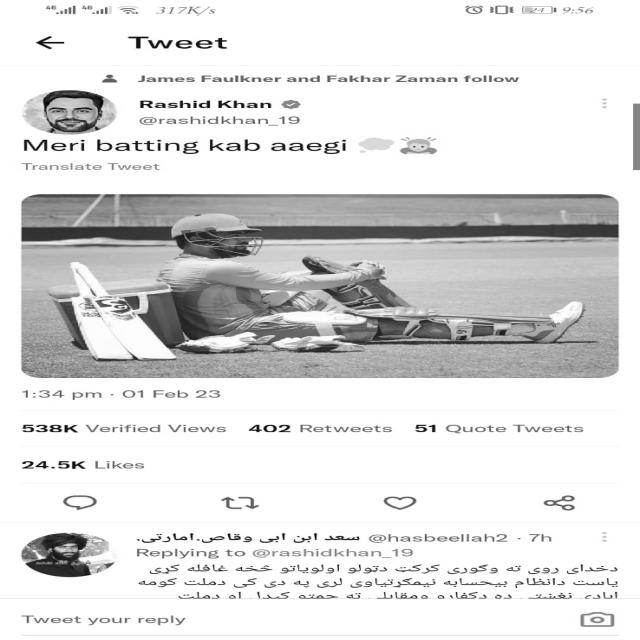CheckedTextView: (279, 98, 320, 113)
EditText: (14, 609, 575, 630)
ImageButton: (17, 35, 78, 49)
ImageView: (22, 188, 624, 378), (22, 92, 132, 134), (361, 487, 478, 516), (55, 493, 154, 510), (533, 488, 577, 516), (224, 492, 268, 516), (587, 609, 617, 628)
TextView: (136, 532, 618, 598), (27, 420, 585, 436), (117, 71, 520, 88), (11, 138, 349, 154), (26, 456, 172, 475), (23, 161, 176, 175), (123, 35, 234, 53), (134, 100, 272, 107)
